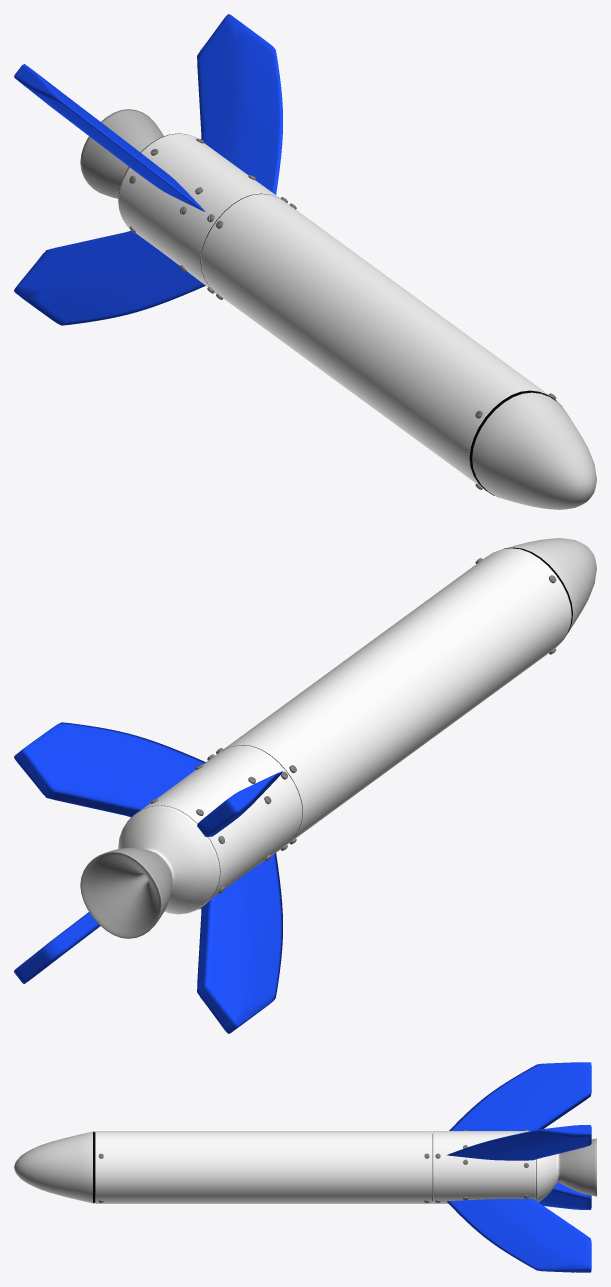
Rendered from missile.obj.
The picture shows the model from 3 angles, top to bottom: view 1: azimuth 30°, elevation 25°; view 2: azimuth 150°, elevation 25°; view 3: azimuth 270°, elevation 25°; orthographic projection. The views are drawn at different scales.
Visible parts, largest first — view 1: Cube; view 2: Cube; view 3: Cube.
Boxes of the visible parts, left/top/right/bottom form: Cube: left=14, top=14, right=596, bottom=509; Cube: left=14, top=538, right=596, bottom=1033; Cube: left=14, top=1062, right=596, bottom=1272.
Size of the model in its own units: 2.95 by 2.95 by 10.56.
3 materials, 3 textured.
